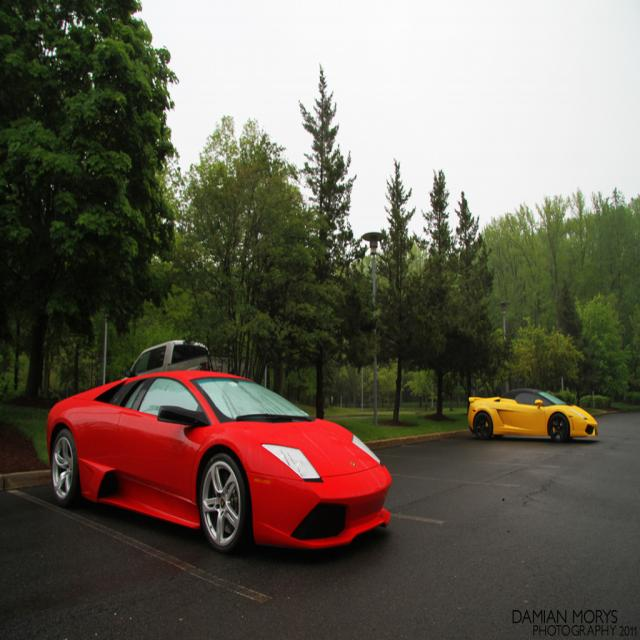other: (44, 372, 390, 558), (466, 388, 598, 446), (125, 341, 214, 377)
